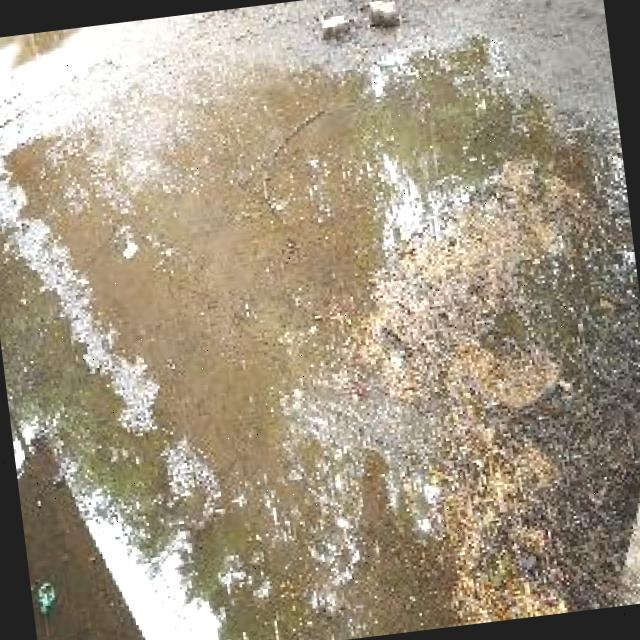stagnation: (0, 24, 623, 640)
